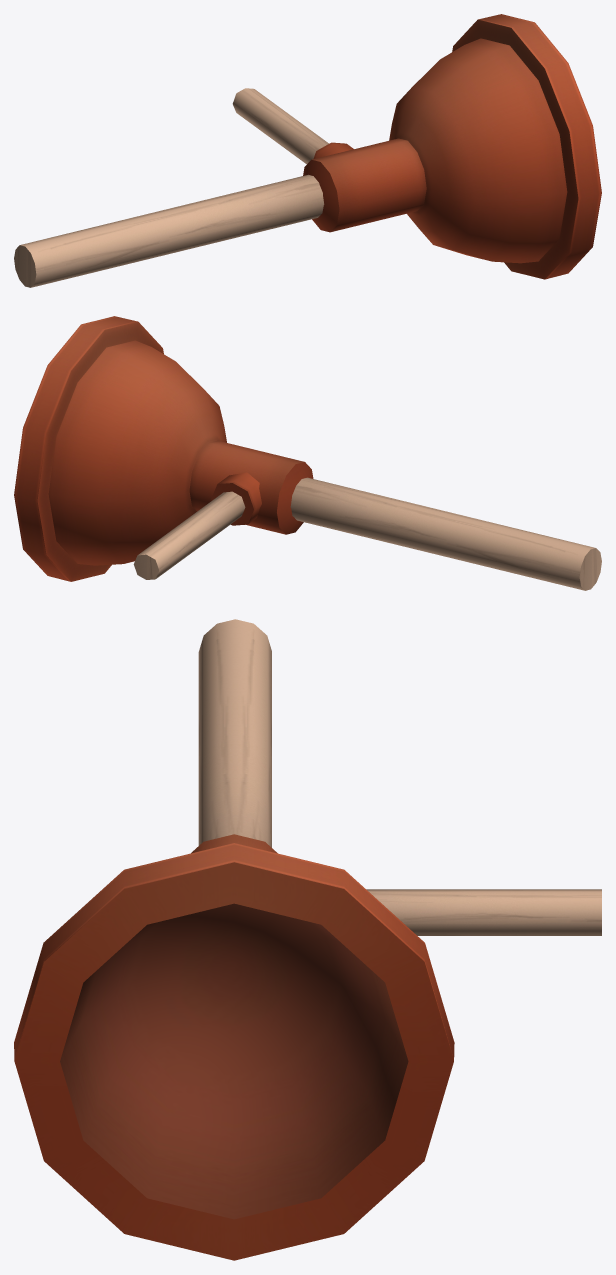
File: sn_shp006.fbx
3 views of the same model, one above another, from view 1: azimuth 30°, elevation 25°; view 2: azimuth 150°, elevation 25°; view 3: azimuth 270°, elevation 25° (orthographic). The views are drawn at different scales.
Visible parts, largest first — view 1: sn_shp006; view 2: sn_shp006; view 3: sn_shp006.
Boxes of the visible parts, x1,y1,x2,y2 form: sn_shp006: (14,14,601,287); sn_shp006: (14,316,601,590); sn_shp006: (14,619,601,1260).
Size of the model in its own units: 0.9973 by 0.4553 by 0.6078.
1 material, 1 textured.
